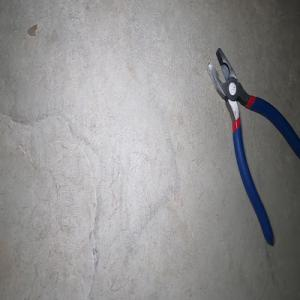Pliers: (206, 47, 300, 246)
